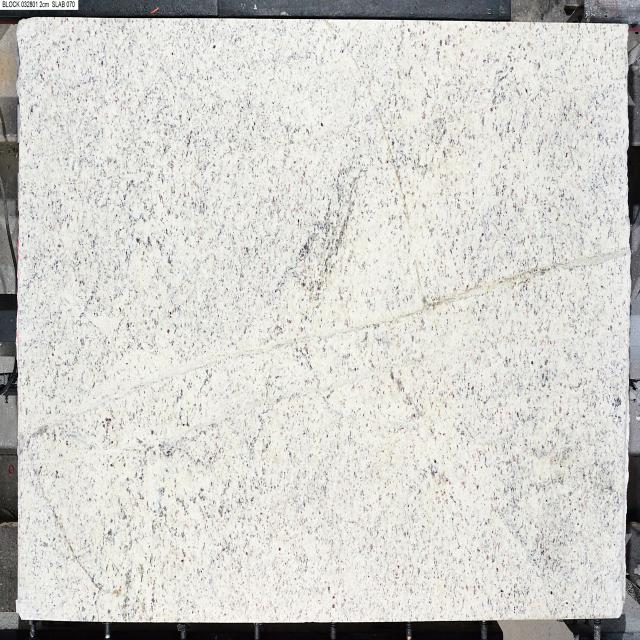chapa: (18, 19, 630, 622)
